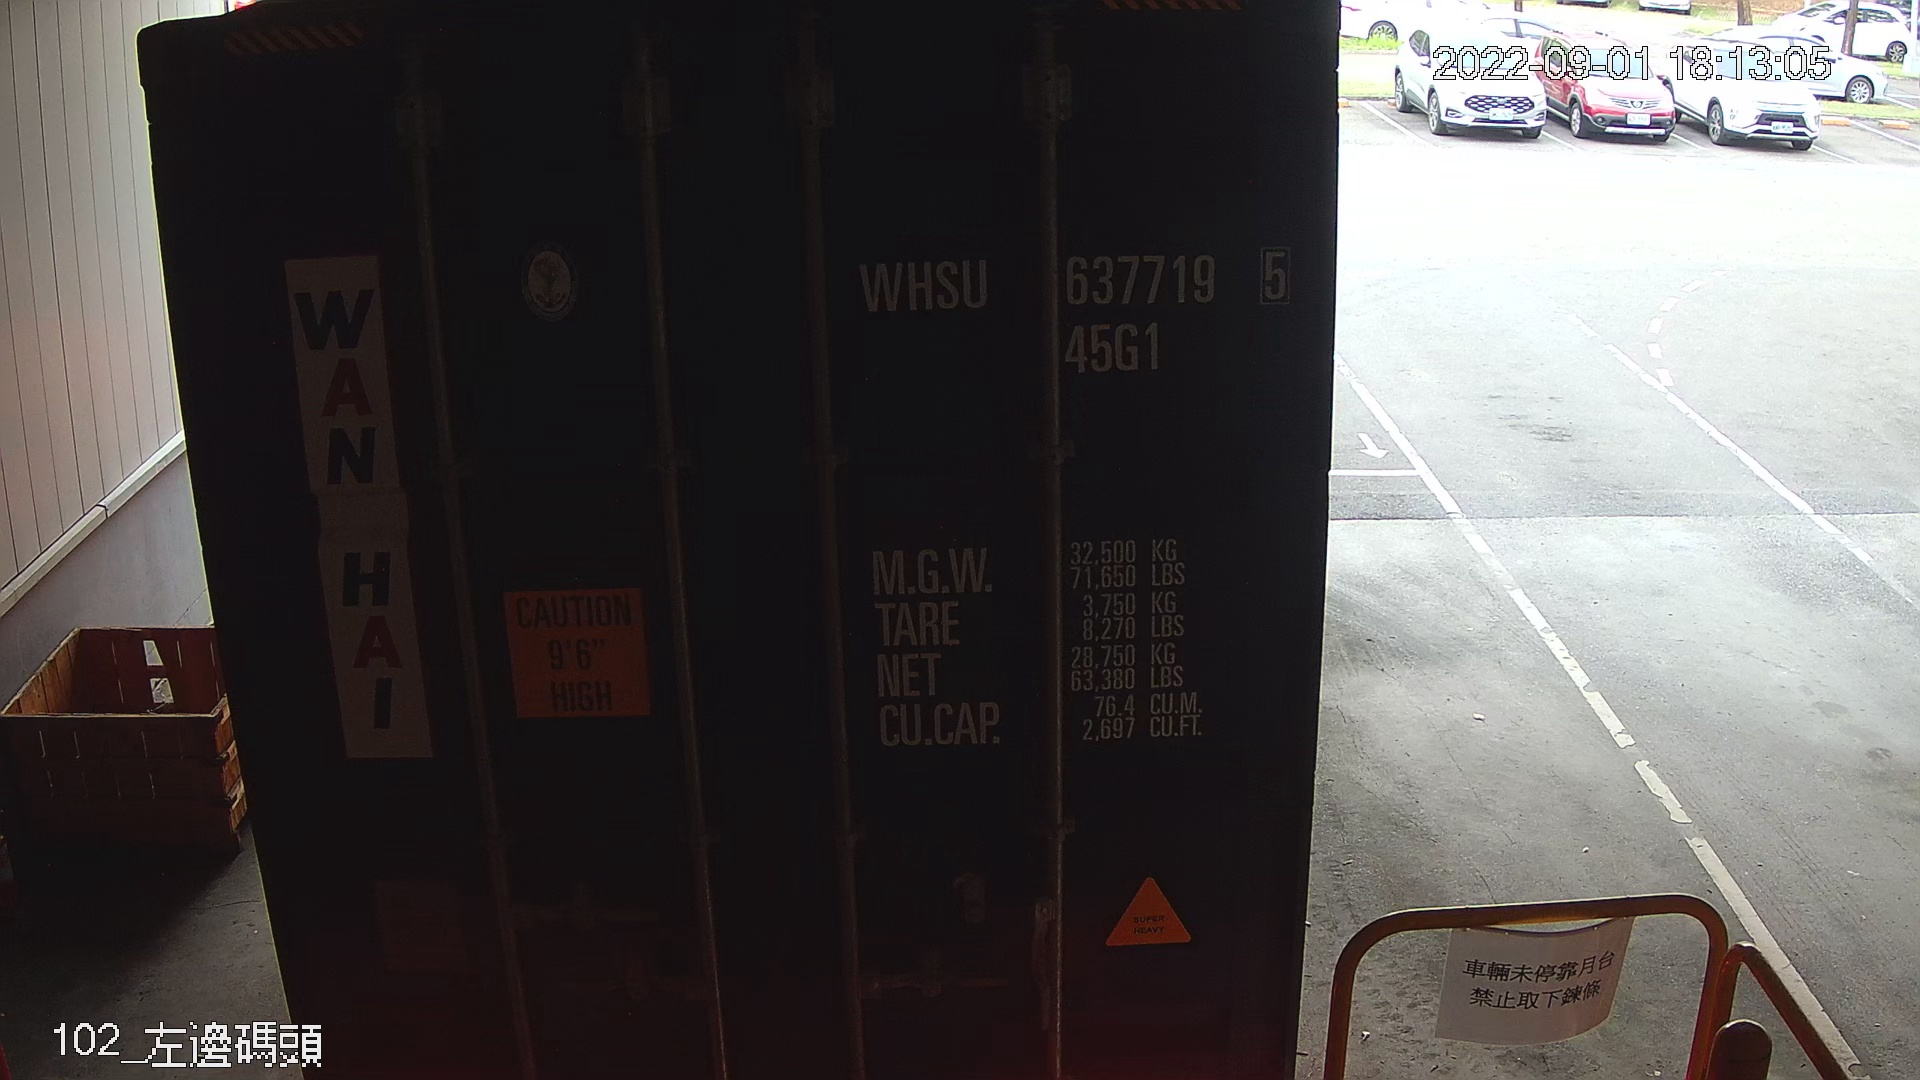container: (837, 236, 1305, 386)
